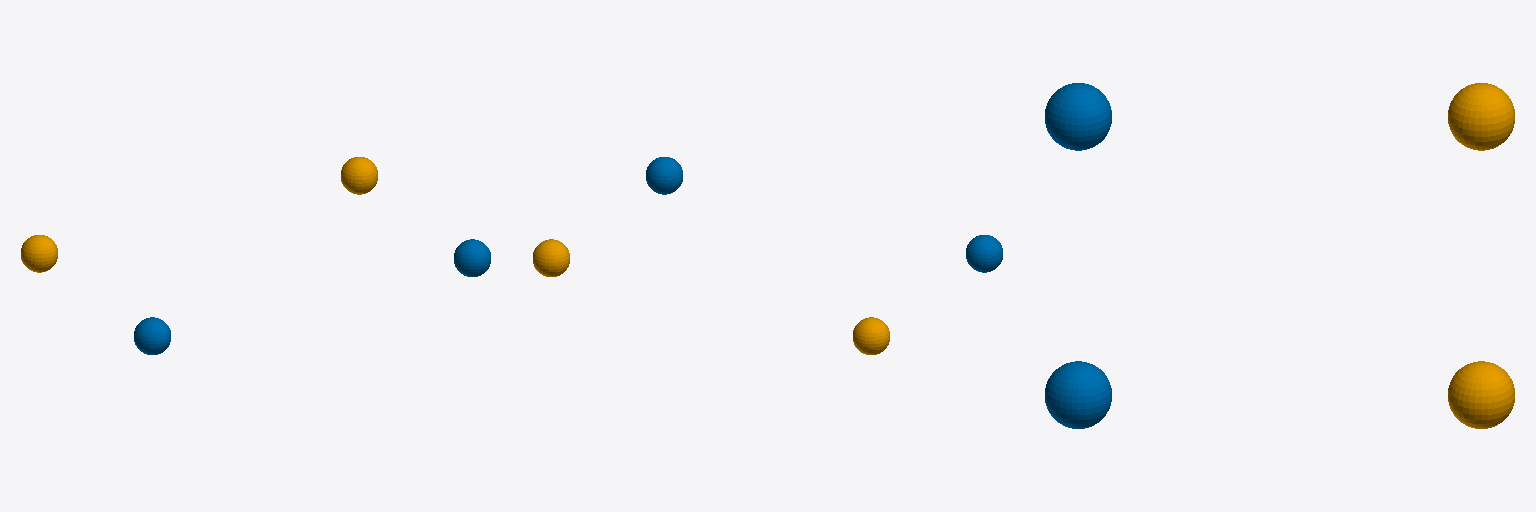
URDF robot description (Hound_description):
<?xml version="1.0" ?>
<!-- =================================================================================== -->
<!-- |    This document was autogenerated by xacro from robot.xacro                    | -->
<!-- |    EDITING THIS FILE BY HAND IS NOT RECOMMENDED                                 | -->
<!-- =================================================================================== -->
<robot name="Hound_description" xmlns:xacro="http://www.ros.org/wiki/xacro">
  <material name="black">
    <color rgba="0.0 0.0 0.0 1.0"/>
  </material>
  <material name="blue">
    <color rgba="0.0 0.0 0.8 1.0"/>
  </material>
  <material name="green">
    <color rgba="0.0 0.8 0.0 1.0"/>
  </material>
  <material name="grey">
    <color rgba="0.2 0.2 0.2 1.0"/>
  </material>
  <material name="silver">
    <color rgba="0.913725490196 0.913725490196 0.847058823529 1.0"/>
  </material>
  <material name="orange">
    <color rgba="1.0 0.423529411765 0.0392156862745 1.0"/>
  </material>
  <material name="brown">
    <color rgba="0.870588235294 0.811764705882 0.764705882353 1.0"/>
  </material>
  <material name="red">
    <color rgba="0.8 0.0 0.0 1.0"/>
  </material>
  <material name="white">
    <color rgba="1.0 1.0 1.0 1.0"/>
  </material>

  <link name="trunk">
    <visual>
      <origin rpy="0 0 0" xyz="0 0 0"/>
      <geometry>
        <mesh filename="base__.dae" scale="1 1 1"/>
      </geometry>
      <material name="silver"/>
    </visual>
    <collision>
      <origin rpy="0 0 0" xyz="0 0 0"/>
      <geometry>
	<!--<box size="0.562 0.335 0.14"/>-->
        <box size="0.562 0.185 0.08"/>
      </geometry>
    </collision>
    <inertial>
      <origin rpy="0 0 0" xyz="0.000717 0.003624 -0.005225"/>
      <mass value="18.75"/>
      <inertia ixx="0.215345" ixy="0.000728" ixz="0.001358" iyy="0.833672" iyz="0.000129" izz="0.984279"/>
    </inertial>
  </link>


  <joint name="RR_roll_joint" type="revolute">
    <origin rpy="0 0 0" xyz="-0.349 -0.100 0.000"/>
    <parent link="trunk"/>
    <child link="RR_shoulder"/>
    <axis xyz="1 0 0"/>
    <!--dynamics rotor_inertia="0.01398664" damping="0" friction="0"/-->
    <limit effort="200" lower="-1.48352986419518" upper="1.48352986419518" velocity="21.29"/>
  </joint>
  <link name="RR_shoulder">
    <visual>
      <origin rpy="0 0 0" xyz="0 0 0"/>
      <geometry>
        <mesh filename="shoulder_mirror__.dae" scale="1 1 1"/>
      </geometry>
      <material name="grey"/>
    </visual>
    <collision>
      <origin rpy="1.57079632679 0 0" xyz="0 -0.0125 0"/>
      <geometry>
        <cylinder length="0.133" radius="0.0605"/>
      </geometry>
    </collision>
    <inertial>
      <origin rpy="0 0 0" xyz="-0.00426027 -0.01325422 0.00000918"/>
      <mass value="4.2947"/>
      <inertia ixx="0.00932019" ixy="-0.00003601" ixz="-0.00000533" iyy="0.00773259" iyz="-0.00001700" izz="0.01043512"/>
    </inertial>
  </link>
  <joint name="RR_hip_joint" type="revolute">
    <origin rpy="0 0 0" xyz="0 -0.1135 0"/>
    <parent link="RR_shoulder"/>
    <child link="RR_thigh"/>
    <axis xyz="0 1 0"/>
    <!--dynamics rotor_inertia="0.05581304" damping="0" friction="0"/-->
    <limit effort="200" lower="-6.28318530718" upper="6.28318530718" velocity="21.29"/>
  </joint>
  <link name="RR_thigh">
    <visual>
      <origin rpy="0 0 0" xyz="0 0 0"/>
      <geometry>
        <mesh filename="thigh_mirror__.dae" scale="1 1 1"/>
      </geometry>
      <material name="grey"/>
    </visual>
    <collision>
      <origin rpy="0 0 0" xyz="0 0 -0.16395"/>
      <geometry>
        <box size="0.078 0.069 0.34"/>
      </geometry>
    </collision>
    <inertial>
      <origin rpy="0 0 0" xyz="0.01353461 0.01879181 -0.09638993"/>
      <mass value="1.6351"/>
      <inertia ixx="0.02365733" ixy="-0.00036775" ixz="-0.00293293" iyy="0.02323490" iyz="0.00261899" izz="0.00318143"/>
    </inertial>
  </link>
  <joint name="RR_knee_joint" type="revolute">
    <origin rpy="0 0 0" xyz="0 0 -0.3279"/>
    <parent link="RR_thigh"/>
    <child link="RR_calf"/>
    <axis xyz="0 1 0"/>
    <!--dynamics rotor_inertia="0.0561" damping="0" friction="0"/-->
    <limit effort="400" lower="-2.7925268" upper="2.7925268" velocity="9.7"/>
  </joint>
  <link name="RR_calf">
    <visual>
      <origin rpy="0 0 0" xyz="0 0 0"/>
      <geometry>
        <mesh filename="calf__.dae" scale="1 1 1"/>
      </geometry>
      <material name="silver"/>
    </visual>
    <collision>
      <origin rpy="0 0 0" xyz="0 0 -0.175"/>
      <geometry>
        <box size="0.032 0.032 0.35"/>
      </geometry>
    </collision>
    <inertial>
      <origin rpy="0 0 0" xyz="0.00000000 -0.00007139 -0.12613433"/>
      <mass value="0.7377"/>
      <inertia ixx="0.01354125" ixy="-0.00000000" ixz="-0.00000058" iyy="0.01354008" iyz="-0.00000573" izz="0.00042390"/>
    </inertial>
  </link>
  <joint name="RR_foot_fixed" type="revolute">
    <origin rpy="0 0 0" xyz="0 0 -0.35"/>
    <parent link="RR_calf"/>
    <child link="RR_foot"/>
    <axis xyz="0 1 0"/>
    <limit effort="200" lower="-6.28318530718" upper="6.28318530718" velocity="16.7"/>
  </joint>
  <link name="RR_foot">
    <visual>
      <origin rpy="0 0 0" xyz="0 0 0"/>
      <geometry>
        <sphere radius="0.036"/>
      </geometry>
    </visual>
    <collision>
      <origin rpy="0 0 0" xyz="0 0 0"/>
      <geometry>
        <sphere radius="0.036"/>
      </geometry>
    </collision>
    <inertial>
          <origin rpy="0 0 0" xyz="0 0 0"/>
          <mass value="1e-12"/>
          <inertia ixx="1e-12" ixy="0" ixz="0" iyy="1e-12" iyz="0" izz="1e-12"/>
    </inertial>
  </link>


  <joint name="RL_roll_joint" type="revolute">
    <origin rpy="0 0 0" xyz="-0.349 0.100 0.000"/>
    <parent link="trunk"/>
    <child link="RL_shoulder"/>
    <axis xyz="1 0 0"/>
    <!--dynamics rotor_inertia="0.01398664" damping="0" friction="0"/-->
    <limit effort="200" lower="-1.48352986419518" upper="1.48352986419518" velocity="21.29"/>
  </joint>
  <link name="RL_shoulder">
    <visual>
      <origin rpy="0 0 0" xyz="0 0 0"/>
      <geometry>
        <mesh filename="shoulder__.dae" scale="1 1 1"/>
      </geometry>
      <material name="grey"/>
    </visual>
    <collision>
      <origin rpy="1.57079632679 0 0" xyz="0 0.0125 0"/>
      <geometry>
        <cylinder length="0.133" radius="0.0605"/>
      </geometry>
    </collision>
    <inertial>
      <origin rpy="0 0 0" xyz="-0.00426027 0.01325422 0.00000918"/>
      <mass value="4.2947"/>
      <inertia ixx="0.00932019" ixy="0.00003601" ixz="-0.00000533" iyy="0.00773259" iyz="0.00001700" izz="0.01043512"/>
    </inertial>
  </link>
  <joint name="RL_hip_joint" type="revolute">
    <origin rpy="0 0 0" xyz="0 0.1135 0"/>
    <parent link="RL_shoulder"/>
    <child link="RL_thigh"/>
    <axis xyz="0 1 0"/>
    <!--dynamics rotor_inertia="0.05581304" damping="0" friction="0"/-->
    <limit effort="200" lower="-6.28318530718" upper="6.28318530718" velocity="21.29"/>
  </joint>
  <link name="RL_thigh">
    <visual>
      <origin rpy="0 0 0" xyz="0 0 0"/>
      <geometry>
        <mesh filename="thigh__.dae" scale="1 1 1"/>
      </geometry>
      <material name="grey"/>
    </visual>
    <collision>
      <origin rpy="0 0 0" xyz="0 0 -0.16395"/>
      <geometry>
        <box size="0.078 0.069 0.34"/>
      </geometry>
    </collision>
    <inertial>
      <origin rpy="0 0 0" xyz="0.01353461 -0.01879181 -0.09638993"/>
      <mass value="1.6351"/>
      <inertia ixx="0.02365733" ixy="0.00036775" ixz="-0.00293293" iyy="0.02323490" iyz="-0.00261899" izz="0.00318143"/>
    </inertial>
  </link>
  <joint name="RL_knee_joint" type="revolute">
    <origin rpy="0 0 0" xyz="0 0 -0.3279"/>
    <parent link="RL_thigh"/>
    <child link="RL_calf"/>
    <axis xyz="0 1 0"/>
    <!--dynamics rotor_inertia="0.0561" damping="0" friction="0"/-->
    <limit effort="400" lower="-2.7925268" upper="2.7925268" velocity="9.7"/>
  </joint>
  <link name="RL_calf">
    <visual>
      <origin rpy="0 0 0" xyz="0 0 0"/>
      <geometry>
        <mesh filename="calf__.dae" scale="1 1 1"/>
      </geometry>
      <material name="silver"/>
    </visual>
    <collision>
      <origin rpy="0 0 0" xyz="0 0 -0.175"/>
      <geometry>
        <box size="0.032 0.032 0.35"/>
      </geometry>
    </collision>
    <inertial>
      <origin rpy="0 0 0" xyz="0.00000000 0.00007139 -0.12613433"/>
      <mass value="0.7377"/>
      <inertia ixx="0.01354125" ixy="0.00000000" ixz="-0.00000058" iyy="0.01354008" iyz="0.00000573" izz="0.00042390"/>
    </inertial>
  </link>
  <joint name="RL_foot_fixed" type="revolute">
    <origin rpy="0 0 0" xyz="0 0 -0.35"/>
    <parent link="RL_calf"/>
    <child link="RL_foot"/>
    <axis xyz="0 1 0"/>
    <limit effort="200" lower="-6.28318530718" upper="6.28318530718" velocity="16.7"/>
  </joint>
  <link name="RL_foot">
    <visual>
      <origin rpy="0 0 0" xyz="0 0 0"/>
      <geometry>
        <sphere radius="0.036"/>
      </geometry>
    </visual>
    <collision>
      <origin rpy="0 0 0" xyz="0 0 0"/>
      <geometry>
        <sphere radius="0.036"/>
      </geometry>
    </collision>
    <inertial>
	<origin rpy="0 0 0" xyz="0 0 0"/>
	<mass value="1e-12"/>
	<inertia ixx="1e-12" ixy="0" ixz="0" iyy="1e-12" iyz="0" izz="1e-12"/>
    </inertial>
  </link>


  <joint name="FR_roll_joint" type="revolute">
    <origin rpy="0 0 0" xyz="0.349 -0.100 0.000"/>
    <parent link="trunk"/>
    <child link="FR_shoulder"/>
    <axis xyz="1 0 0"/>
    <!--dynamics rotor_inertia="0.01398664" damping="0" friction="0"/-->
    <limit effort="200" lower="-1.48352986419518" upper="1.48352986419518" velocity="21.29"/>
  </joint>
  <link name="FR_shoulder">
    <visual>
      <origin rpy="0 0 0" xyz="0 0 0"/>
      <geometry>
        <mesh filename="shoulder_mirror__.dae" scale="1 1 1"/>
      </geometry>
      <material name="grey"/>
    </visual>
    <collision>
      <origin rpy="1.57079632679 0 0" xyz="0 -0.0125 0"/>
      <geometry>
        <cylinder length="0.133" radius="0.0605"/>
      </geometry>
    </collision>
    <inertial>
      <origin rpy="0 0 0" xyz="-0.00426027 -0.01325422 0.00000918"/>
      <mass value="4.2947"/>
      <inertia ixx="0.00932019" ixy="-0.00003601" ixz="-0.00000533" iyy="0.00773259" iyz="-0.00001700" izz="0.01043512"/>
    </inertial>
  </link>
  <joint name="FR_hip_joint" type="revolute">
    <origin rpy="0 0 0" xyz="0 -0.1135 0"/>
    <parent link="FR_shoulder"/>
    <child link="FR_thigh"/>
    <axis xyz="0 1 0"/>
    <!--dynamics rotor_inertia="0.05581304" damping="0" friction="0"/-->
    <limit effort="200" lower="-6.28318530718" upper="6.28318530718" velocity="21.29"/>
  </joint>
  <link name="FR_thigh">
    <visual>
      <origin rpy="0 0 0" xyz="0 0 0"/>
      <geometry>
        <mesh filename="thigh_mirror__.dae" scale="1 1 1"/>
      </geometry>
      <material name="grey"/>
    </visual>
    <collision>
      <origin rpy="0 0 0" xyz="0 0 -0.16395"/>
      <geometry>
        <box size="0.078 0.069 0.34"/>
      </geometry>
    </collision>
    <inertial>
      <origin rpy="0 0 0" xyz="0.01353461 0.01879181 -0.09638993"/>
      <mass value="1.6351"/>
      <inertia ixx="0.02365733" ixy="-0.00036775" ixz="-0.00293293" iyy="0.02323490" iyz="0.00261899" izz="0.00318143"/>
    </inertial>
  </link>
  <joint name="FR_knee_joint" type="revolute">
    <origin rpy="0 0 0" xyz="0 0 -0.3279"/>
    <parent link="FR_thigh"/>
    <child link="FR_calf"/>
    <axis xyz="0 1 0"/>
    <!--dynamics rotor_inertia="0.0561" damping="0" friction="0"/-->
    <limit effort="400" lower="-2.7925268" upper="2.7925268" velocity="9.7"/>
  </joint>
  <link name="FR_calf">
    <visual>
      <origin rpy="0 0 0" xyz="0 0 0"/>
      <geometry>
        <mesh filename="calf__.dae" scale="1 1 1"/>
      </geometry>
      <material name="silver"/>
    </visual>
    <collision>
      <origin rpy="0 0 0" xyz="0 0 -0.175"/>
      <geometry>
        <box size="0.032 0.032 0.35"/>
      </geometry>
    </collision>
    <inertial>
      <origin rpy="0 0 0" xyz="0.00000000 -0.00007139 -0.12613433"/>
      <mass value="0.7377"/>
      <inertia ixx="0.01354125" ixy="-0.00000000" ixz="-0.00000058" iyy="0.01354008" iyz="-0.00000573" izz="0.00042390"/>
    </inertial>
  </link>
  <joint name="FR_foot_fixed" type="revolute">
    <origin rpy="0 0 0" xyz="0 0 -0.35"/>
    <parent link="FR_calf"/>
    <child link="FR_foot"/>
    <axis xyz="0 1 0"/>
    <limit effort="200" lower="-6.28318530718" upper="6.28318530718" velocity="16.7"/>
  </joint>
  <link name="FR_foot">
    <visual>
      <origin rpy="0 0 0" xyz="0 0 0"/>
      <geometry>
        <sphere radius="0.036"/>
      </geometry>
    </visual>
    <collision>
      <origin rpy="0 0 0" xyz="0 0 0"/>
      <geometry>
        <sphere radius="0.036"/>
      </geometry>
    </collision>
    <inertial>
          <origin rpy="0 0 0" xyz="0 0 0"/>
          <mass value="1e-12"/>
          <inertia ixx="1e-12" ixy="0" ixz="0" iyy="1e-12" iyz="0" izz="1e-12"/>
    </inertial>
  </link>


  <joint name="FL_roll_joint" type="revolute">
    <origin rpy="0 0 0" xyz="0.349 0.100 0.000"/>
    <parent link="trunk"/>
    <child link="FL_shoulder"/>
    <axis xyz="1 0 0"/>
    <!--dynamics rotor_inertia="0.01398664" damping="0" friction="0"/-->
    <limit effort="200" lower="-1.48352986419518" upper="1.48352986419518" velocity="21.29"/>
  </joint>
  <link name="FL_shoulder">
    <visual>
      <origin rpy="0 0 0" xyz="0 0 0"/>
      <geometry>
        <mesh filename="shoulder__.dae" scale="1 1 1"/>
      </geometry>
      <material name="grey"/>
    </visual>
    <collision>
      <origin rpy="1.57079632679 0 0" xyz="0 0.0125 0"/>
      <geometry>
        <cylinder length="0.133" radius="0.0605"/>
      </geometry>
    </collision>
    <inertial>
      <origin rpy="0 0 0" xyz="-0.00426027 0.01325422 0.00000918"/>
      <mass value="4.2947"/>
      <inertia ixx="0.00932019" ixy="0.00003601" ixz="-0.00000533" iyy="0.00773259" iyz="0.00001700" izz="0.01043512"/>
    </inertial>
  </link>
  <joint name="FL_hip_joint" type="revolute">
    <origin rpy="0 0 0" xyz="0 0.1135 0"/>
    <parent link="FL_shoulder"/>
    <child link="FL_thigh"/>
    <axis xyz="0 1 0"/>
    <!--dynamics rotor_inertia="0.05581304" damping="0" friction="0"/-->
    <limit effort="200" lower="-6.28318530718" upper="6.28318530718" velocity="21.29"/>
  </joint>
  <link name="FL_thigh">
    <visual>
      <origin rpy="0 0 0" xyz="0 0 0"/>
      <geometry>
        <mesh filename="thigh__.dae" scale="1 1 1"/>
      </geometry>
      <material name="grey"/>
    </visual>
    <collision>
      <origin rpy="0 0 0" xyz="0 0 -0.16395"/>
      <geometry>
        <box size="0.078 0.069 0.34"/>
      </geometry>
    </collision>
    <inertial>
      <origin rpy="0 0 0" xyz="0.01353461 -0.01879181 -0.09638993"/>
      <mass value="1.6351"/>
      <inertia ixx="0.02365733" ixy="0.00036775" ixz="-0.00293293" iyy="0.02323490" iyz="-0.00261899" izz="0.00318143"/>
    </inertial>
  </link>
  <joint name="FL_knee_joint" type="revolute">
    <origin rpy="0 0 0" xyz="0 0 -0.3279"/>
    <parent link="FL_thigh"/>
    <child link="FL_calf"/>
    <axis xyz="0 1 0"/>
    <!--dynamics rotor_inertia="0.0561" damping="0" friction="0"/-->
    <limit effort="400" lower="-2.7925268" upper="2.7925268" velocity="9.7"/>
  </joint>
  <link name="FL_calf">
    <visual>
      <origin rpy="0 0 0" xyz="0 0 0"/>
      <geometry>
        <mesh filename="calf__.dae" scale="1 1 1"/>
      </geometry>
      <material name="silver"/>
    </visual>
    <collision>
      <origin rpy="0 0 0" xyz="0 0 -0.175"/>
      <geometry>
        <box size="0.032 0.032 0.35"/>
      </geometry>
    </collision>
    <inertial>
      <origin rpy="0 0 0" xyz="0.00000000 0.00007139 -0.12613433"/>
      <mass value="0.7377"/>
      <inertia ixx="0.01354125" ixy="0.00000000" ixz="-0.00000058" iyy="0.01354008" iyz="0.00000573" izz="0.00042390"/>
    </inertial>
  </link>
  <joint name="FL_foot_fixed" type="revolute">
    <origin rpy="0 0 0" xyz="0 0 -0.35"/>
    <parent link="FL_calf"/>
    <child link="FL_foot"/>
    <axis xyz="0 1 0"/>
    <limit effort="200" lower="-6.28318530718" upper="6.28318530718" velocity="16.7"/>
  </joint>
  <link name="FL_foot">
    <visual>
      <origin rpy="0 0 0" xyz="0 0 0"/>
      <geometry>
        <sphere radius="0.036"/>
      </geometry>
    </visual>
    <collision>
      <origin rpy="0 0 0" xyz="0 0 0"/>
      <geometry>
        <sphere radius="0.036"/>
      </geometry>
    </collision>
    <inertial>
          <origin rpy="0 0 0" xyz="0 0 0"/>
          <mass value="1e-12"/>
          <inertia ixx="1e-12" ixy="0" ixz="0" iyy="1e-12" iyz="0" izz="1e-12"/>
    </inertial>
  </link>


</robot>


--- Facts derived from the render (not from the file) ---
The picture shows the robot from 3 angles, left to right: view 1: azimuth 30°, elevation 25°; view 2: azimuth 150°, elevation 25°; view 3: azimuth 270°, elevation 25°; orthographic projection.
Robot: Hound_description — 17 links, 16 joints (16 revolute); root link trunk; default pose: all joints at 0.
Links seen in each view (by area): view 1: RR_foot, FL_foot, RL_foot, FR_foot; view 2: RL_foot, FR_foot, RR_foot, FL_foot; view 3: RR_foot, RL_foot, FR_foot, FL_foot.
Link boxes in pixels (<box>): RR_foot: <box>134,317,170,354</box>; FL_foot: <box>341,157,377,194</box>; RL_foot: <box>21,235,57,272</box>; FR_foot: <box>454,239,490,276</box>; RL_foot: <box>853,317,889,354</box>; FR_foot: <box>646,157,682,194</box>; RR_foot: <box>966,235,1002,272</box>; FL_foot: <box>533,239,569,276</box>; RR_foot: <box>1045,83,1111,150</box>; RL_foot: <box>1448,83,1514,150</box>; FR_foot: <box>1045,361,1111,428</box>; FL_foot: <box>1448,361,1514,428</box>.
Size in the robot's own frame: 0.77 by 0.499 by 0.072 metres.
0 mesh visuals loaded from 6 distinct referenced files (none loaded); not drawn: 13 (reference not matched to a file when rendering).